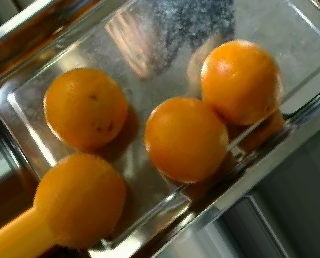Orange: (35, 152, 126, 247), (142, 95, 228, 184), (199, 37, 282, 124), (43, 67, 128, 150)
